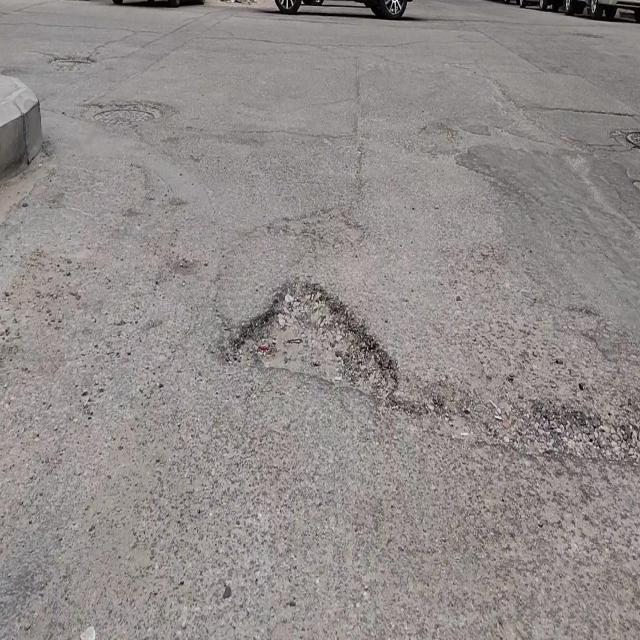Pothole: (224, 275, 399, 407)
